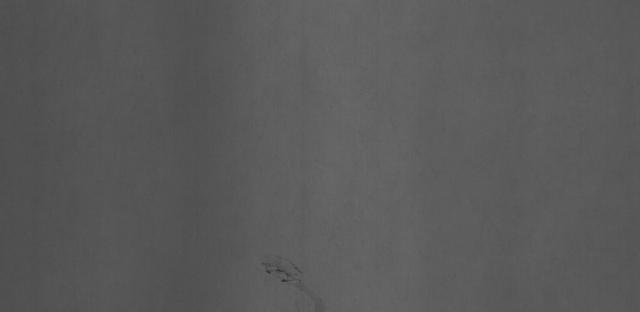inclusion: (257, 255, 307, 284)
water_spot: (298, 288, 329, 312)
